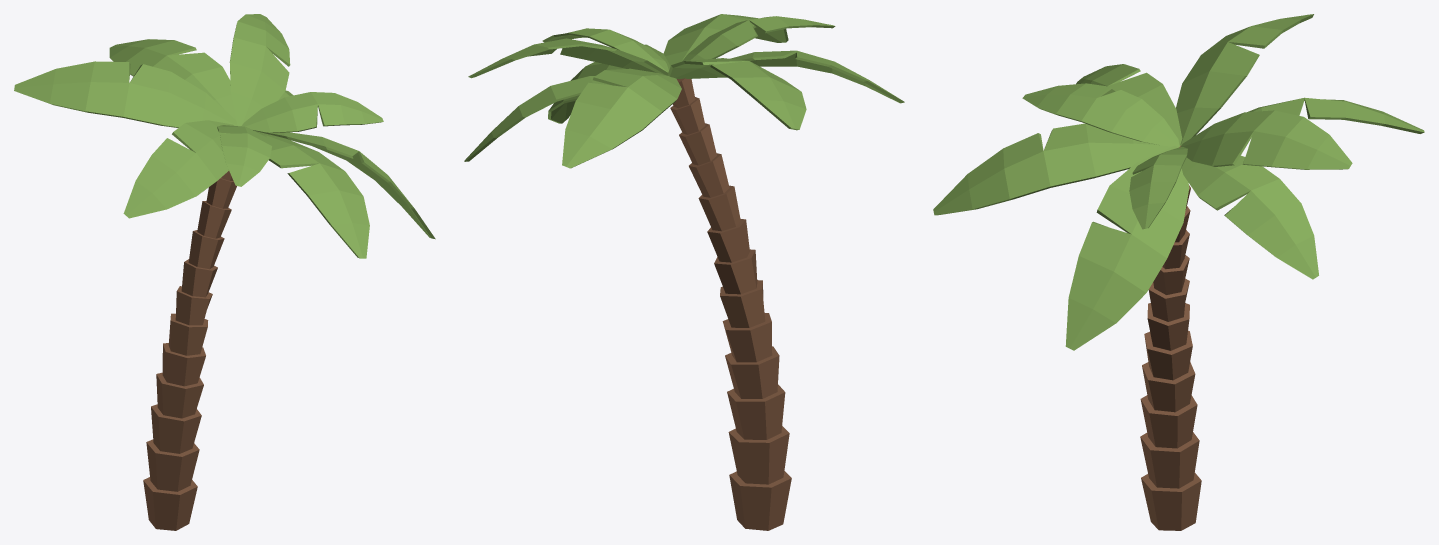
Rendered from Tree_1.fbx.
3 views of the same model, side by side, from view 1: azimuth 30°, elevation 25°; view 2: azimuth 150°, elevation 25°; view 3: azimuth 270°, elevation 25° (orthographic). The views are drawn at different scales.
Visible parts, largest first — view 1: Tree_1; view 2: Tree_1; view 3: Tree_1.
Boxes of the visible parts, x1,y1,x2,y2 form: Tree_1: (14, 14, 435, 530); Tree_1: (464, 14, 904, 530); Tree_1: (933, 14, 1424, 530).
Size of the model in its own units: 229 by 300 by 278.
